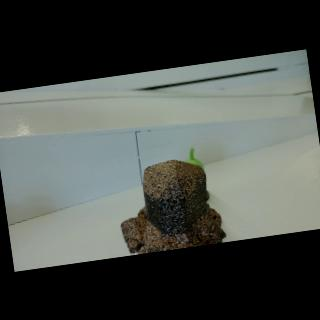teletubby: (184, 148, 203, 169)
